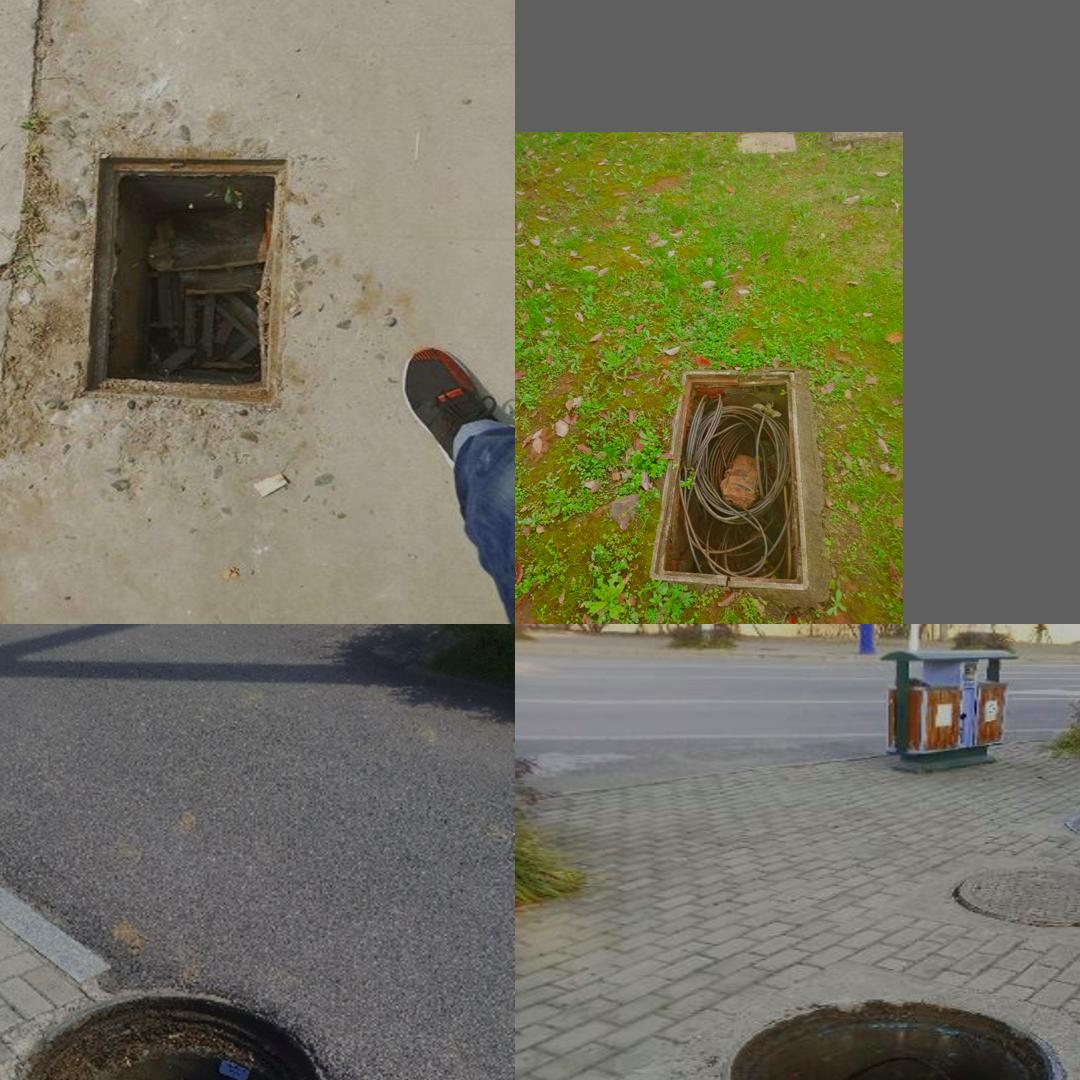good: (954, 864, 1080, 929), (1066, 810, 1080, 851)
lose: (24, 130, 337, 436), (648, 369, 808, 588), (6, 989, 332, 1080), (716, 996, 1064, 1080)
